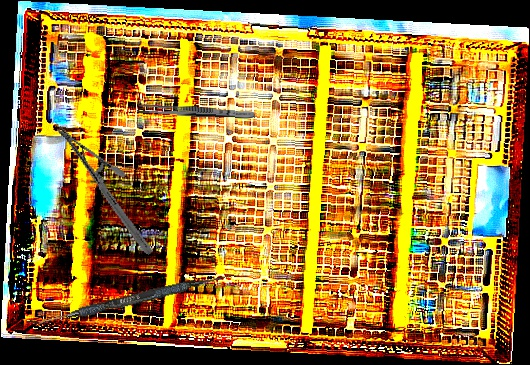Dressing Forceps: (137, 103, 256, 121)
Needle Holder: (25, 125, 184, 256)
Spatula Surgical: (27, 267, 232, 333)
